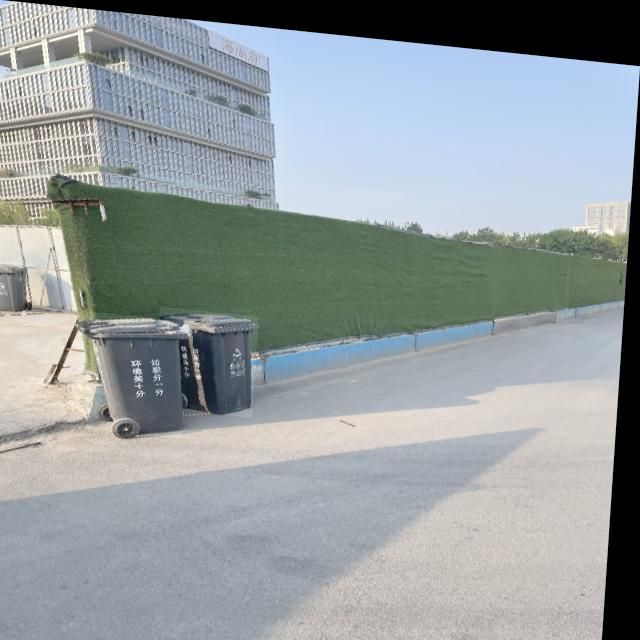garbage_bin: (159, 303, 263, 412), (0, 262, 32, 312)
overflow: (76, 308, 194, 434)
